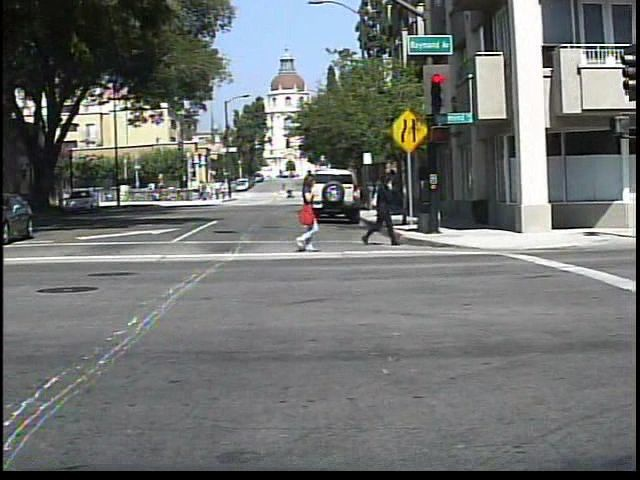person: (359, 167, 407, 249), (290, 167, 331, 251), (287, 185, 298, 203)
